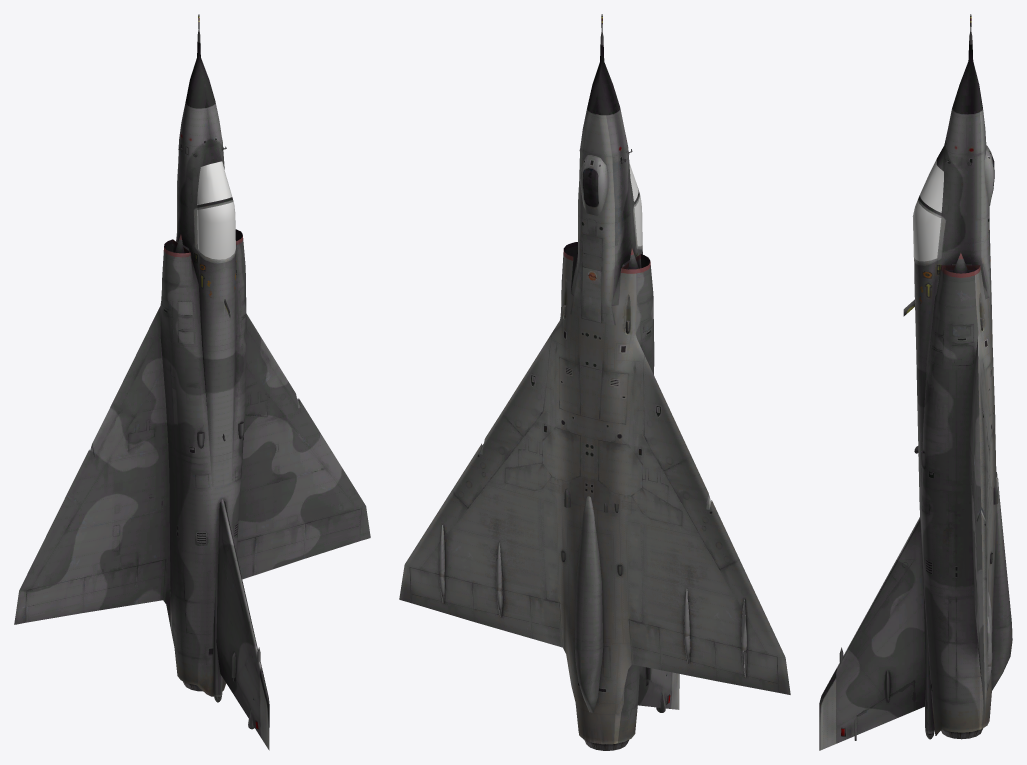
File: Dassault_Mirage_III.obj
The picture shows the model from 3 angles, left to right: view 1: azimuth 30°, elevation 25°; view 2: azimuth 150°, elevation 25°; view 3: azimuth 270°, elevation 25°; orthographic projection. The views are drawn at different scales.
Parts seen in each view (by area): view 1: LOD0, ElevatorL01, AileronL01, Glass_Canopy01, AileronR01, ElevatorR01, Glass01, FlapL01, FlapR01; view 2: LOD0, ElevatorR01, AileronR01, AileronL01, ElevatorL01, FlapR01, FlapL01; view 3: LOD0, RudderL01, Glass_Canopy01, Glass01, Canopy01.
Boxes of the visible parts, x1,y1,x2,y2 form: LOD0: (14,14,370,750); ElevatorL01: (82,565,137,612); AileronL01: (25,577,84,622); Glass_Canopy01: (197,202,235,259); AileronR01: (303,508,361,558); ElevatorR01: (252,523,305,575); Glass01: (197,161,232,204); FlapL01: (135,559,165,604); FlapR01: (237,537,254,579); LOD0: (399,14,790,744); ElevatorR01: (472,582,532,638); AileronR01: (409,567,474,621); AileronL01: (714,642,778,692); ElevatorL01: (658,627,716,681); FlapR01: (530,596,562,647); FlapL01: (629,620,660,669); LOD0: (819,14,1012,750); RudderL01: (857,681,914,734); Glass_Canopy01: (912,200,941,261); Glass01: (920,159,943,212); Canopy01: (914,198,945,265).
Bounding box in the file's own units: 8.24 × 15.14 × 3.6.
Materials: 3 (3 with a texture image).
